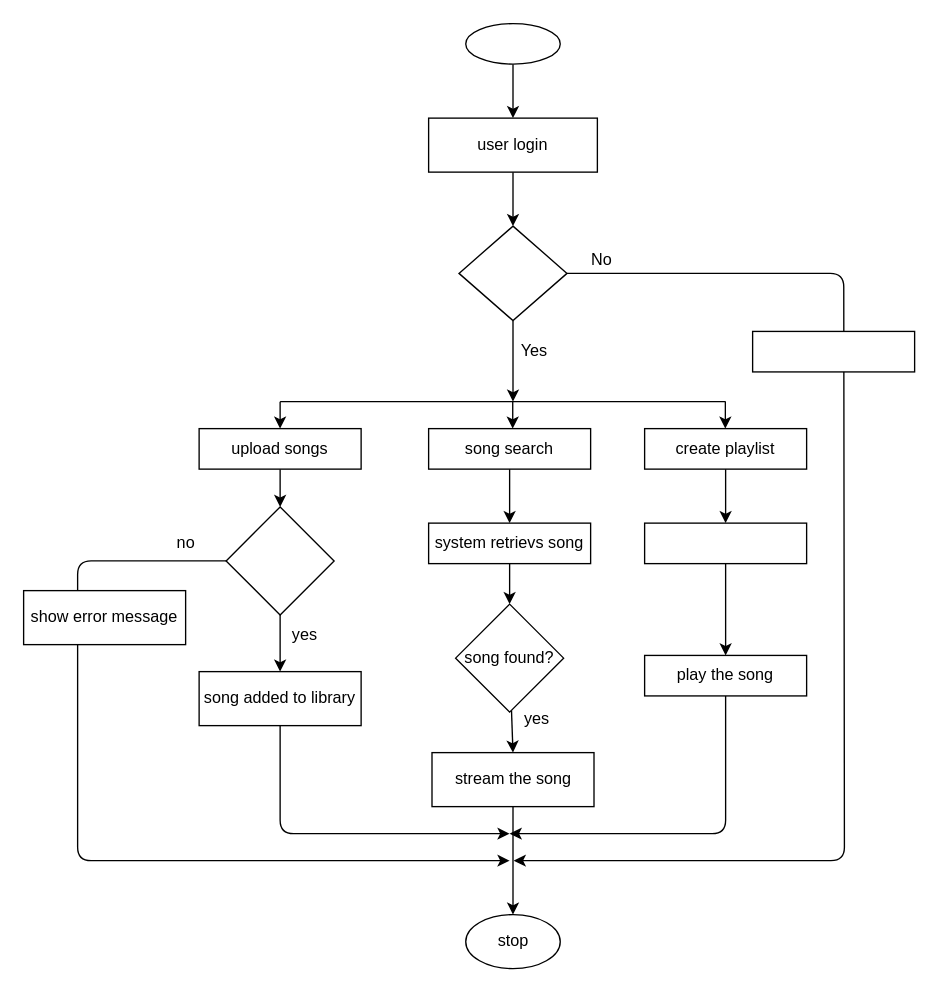
Some shapes in this 938 by 992 pixel diagram are drawn without their labels. The centre of each missing label's shape, as x and y in pixels:
"add song to playlist" goes at pixel 725 543.
"is song valid?" goes at pixel 279 560.
"is user valid?" goes at pixel 512 273.
"show invalid login" goes at pixel 833 351.
"start" goes at pixel 512 43.
